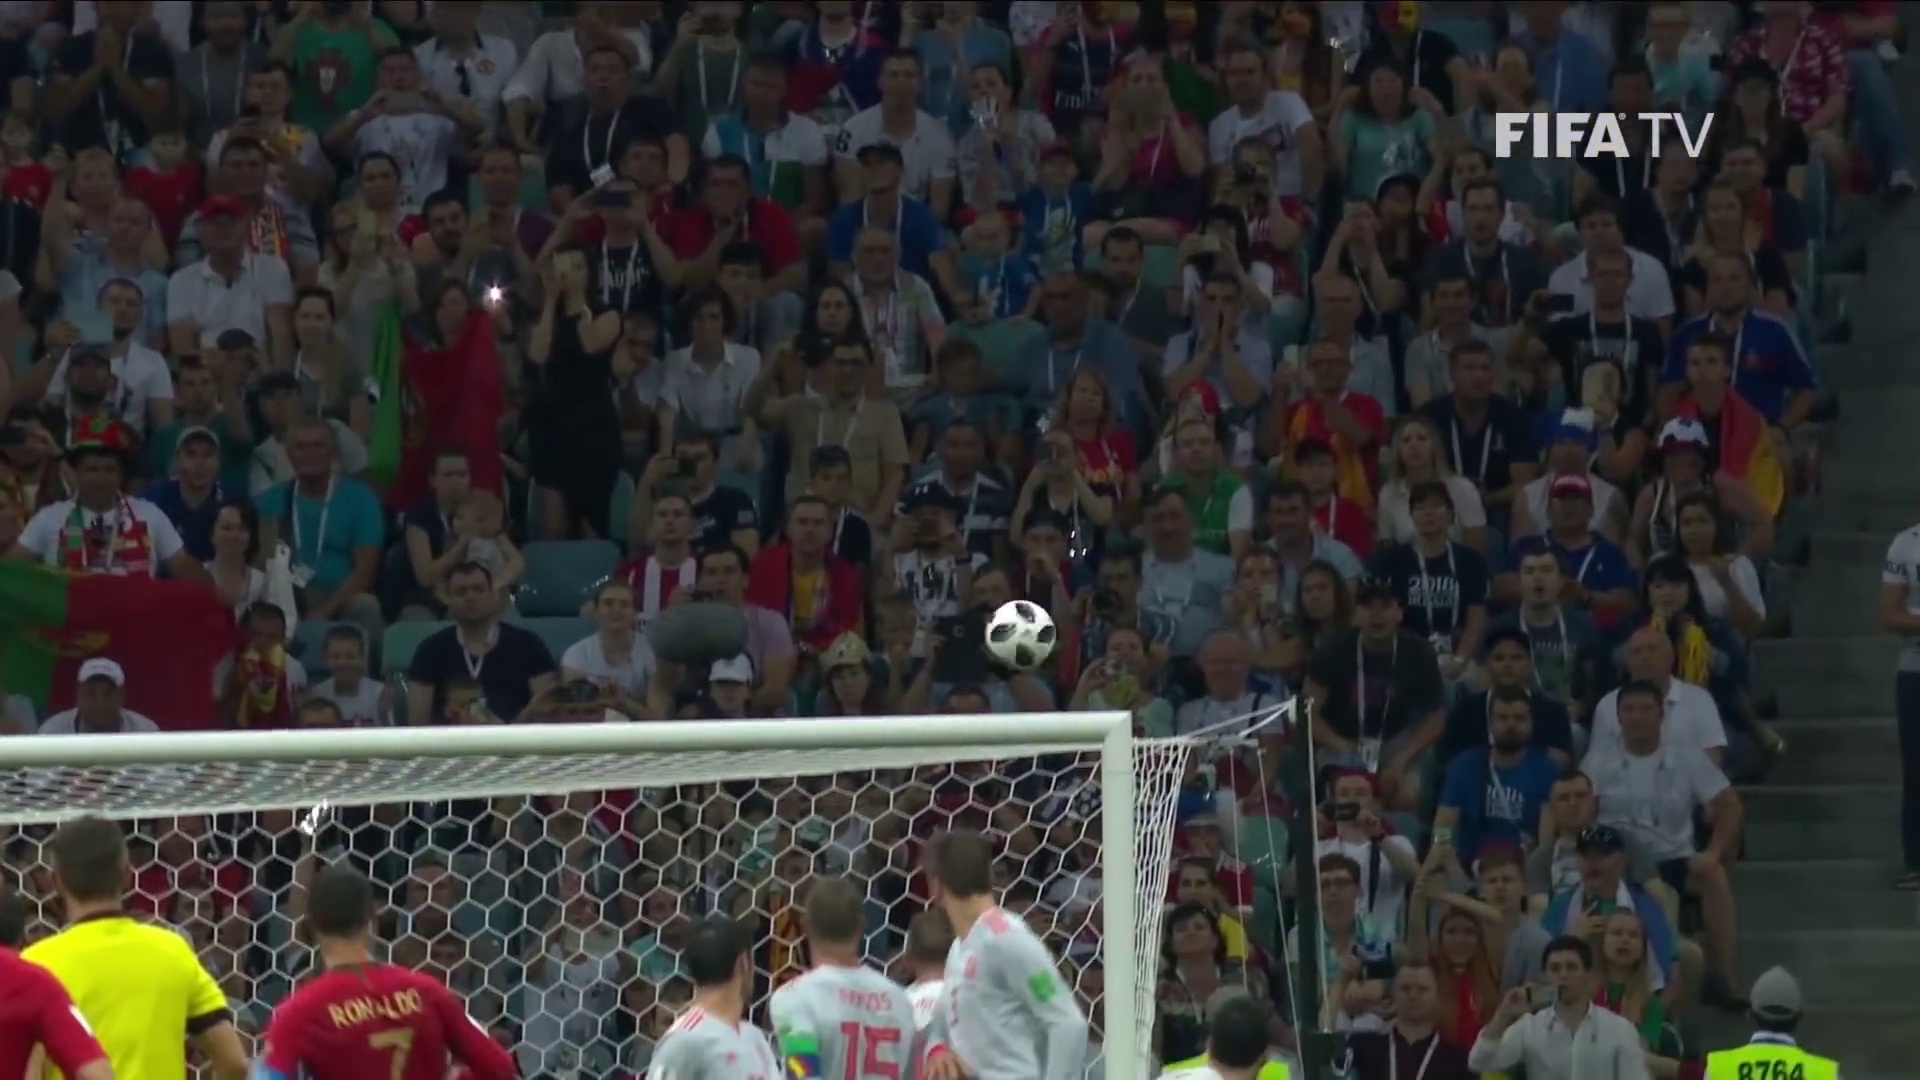ball: (985, 602, 1056, 665)
person: (263, 872, 504, 1080), (916, 841, 1090, 1080), (775, 865, 922, 1080), (656, 923, 788, 1080)
